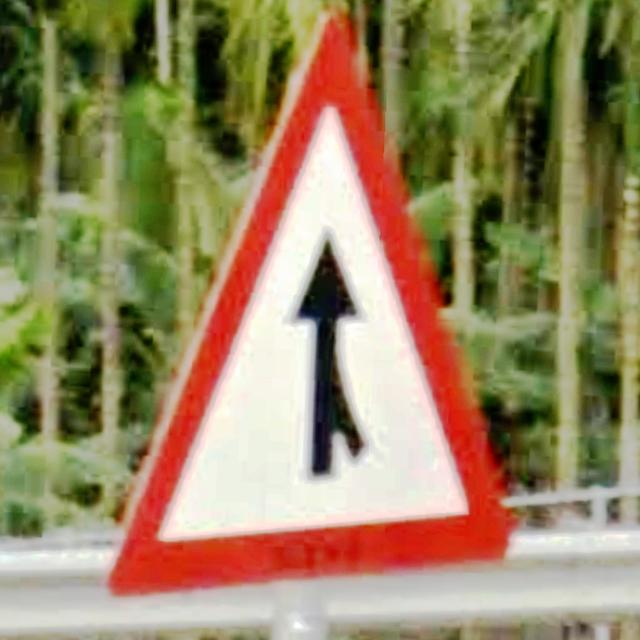rightmerge: (106, 13, 511, 600)
